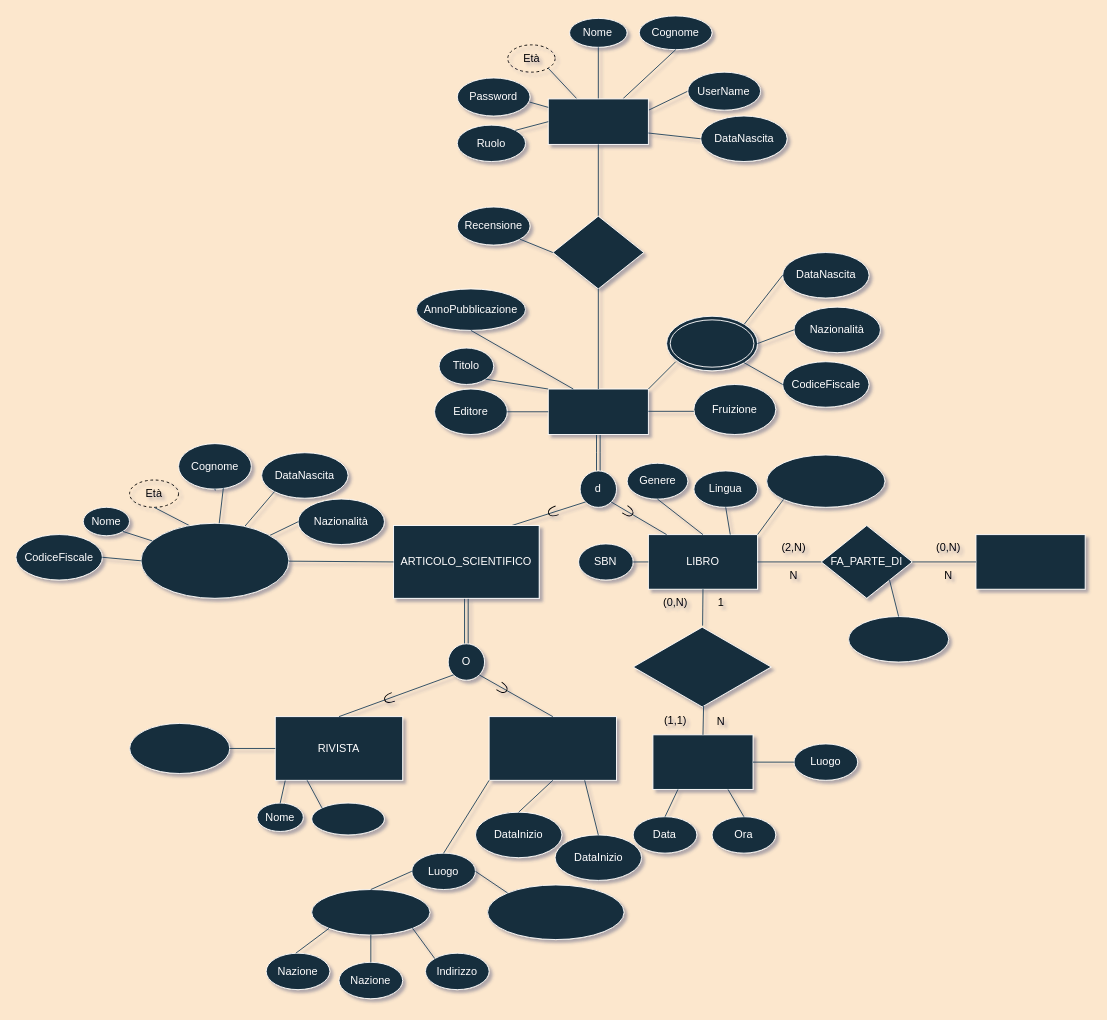
Some shapes in this 1107 by 1020 pixel diagram are drawn without their labels. Each missing label, with the centre of its shape:
AnnoFondazione: point (179, 748)
Argomento: point (347, 818)
Autore: point (712, 343)
Caratteristica: point (898, 639)
COLLANA: point (1030, 561)
CONFERENZA: point (552, 748)
DataPubblicazione: point (825, 480)
ELEMENTO: point (597, 411)
LuogoConferenza: point (370, 912)
PARTECIPAZIONE: point (701, 666)
PREFERITI: point (598, 252)
PRESENTAZIONE: point (702, 761)
ResponsabilePubblicazione: point (214, 560)
StrutturaOrganizzatrice: point (555, 912)
UTENTE: point (597, 121)
